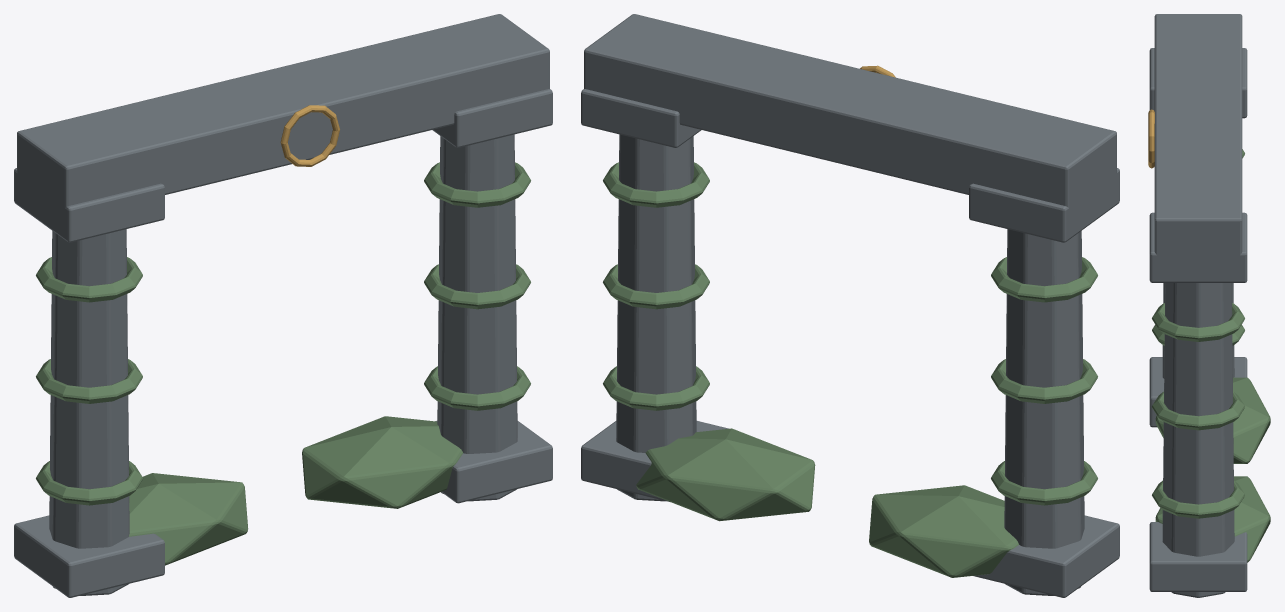
File: biome_gardens.glb
3 views of the same model, side by side, from view 1: azimuth 30°, elevation 25°; view 2: azimuth 150°, elevation 25°; view 3: azimuth 270°, elevation 25° (orthographic). The views are drawn at different scales.
Visible parts, largest first — view 1: RuinedPillar, ClimbingVine, GardenSigil; view 2: RuinedPillar, ClimbingVine; view 3: RuinedPillar, ClimbingVine, GardenSigil.
Boxes of the visible parts, x1,y1,x2,y2 form: RuinedPillar: [14, 14, 552, 597]; ClimbingVine: [36, 162, 530, 565]; GardenSigil: [280, 105, 339, 166]; RuinedPillar: [581, 14, 1119, 597]; ClimbingVine: [603, 162, 1097, 577]; RuinedPillar: [1149, 14, 1247, 597]; ClimbingVine: [1152, 149, 1270, 562]; GardenSigil: [1148, 109, 1154, 168].
Size of the model in its own units: 5 by 4.4 by 1.25.
